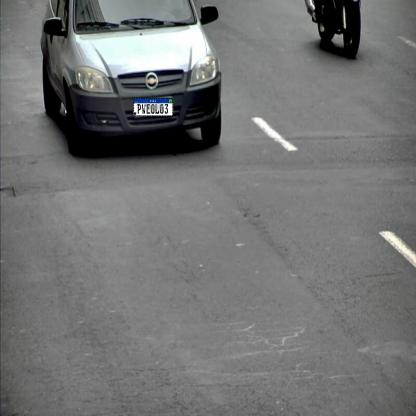PlacaM: (133, 98, 173, 116)
